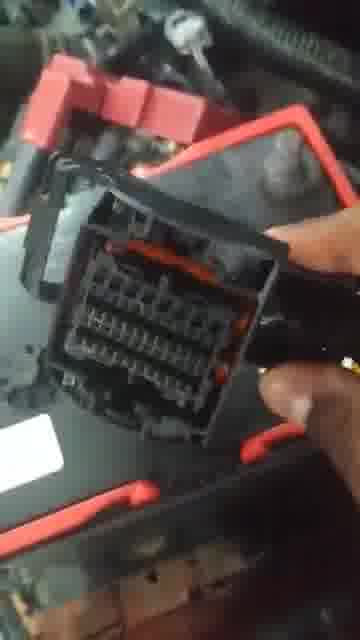connector: (40, 223, 274, 451)
